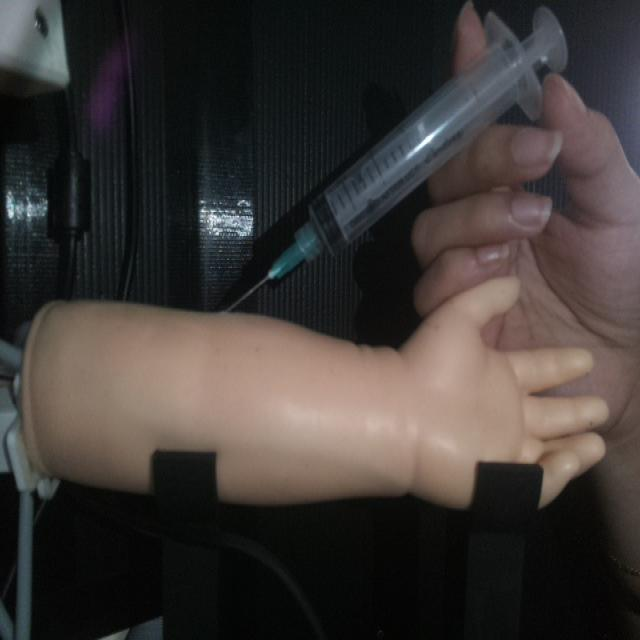Outside: (218, 2, 570, 318)
